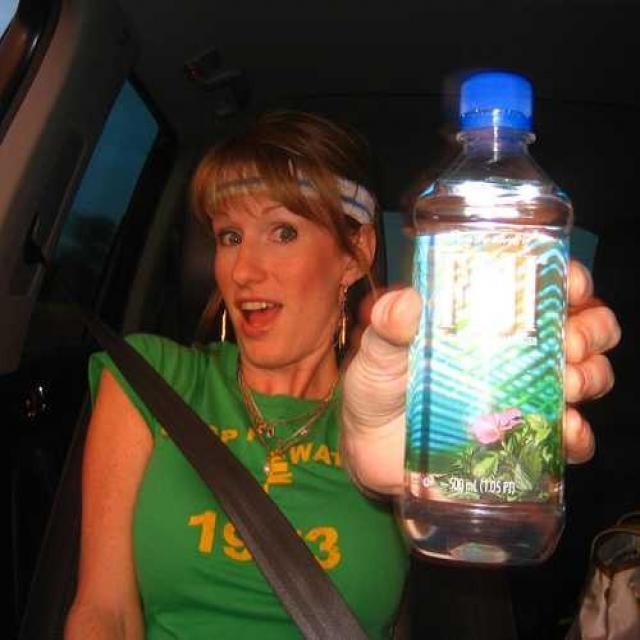seatbelt: (41, 257, 275, 519)
